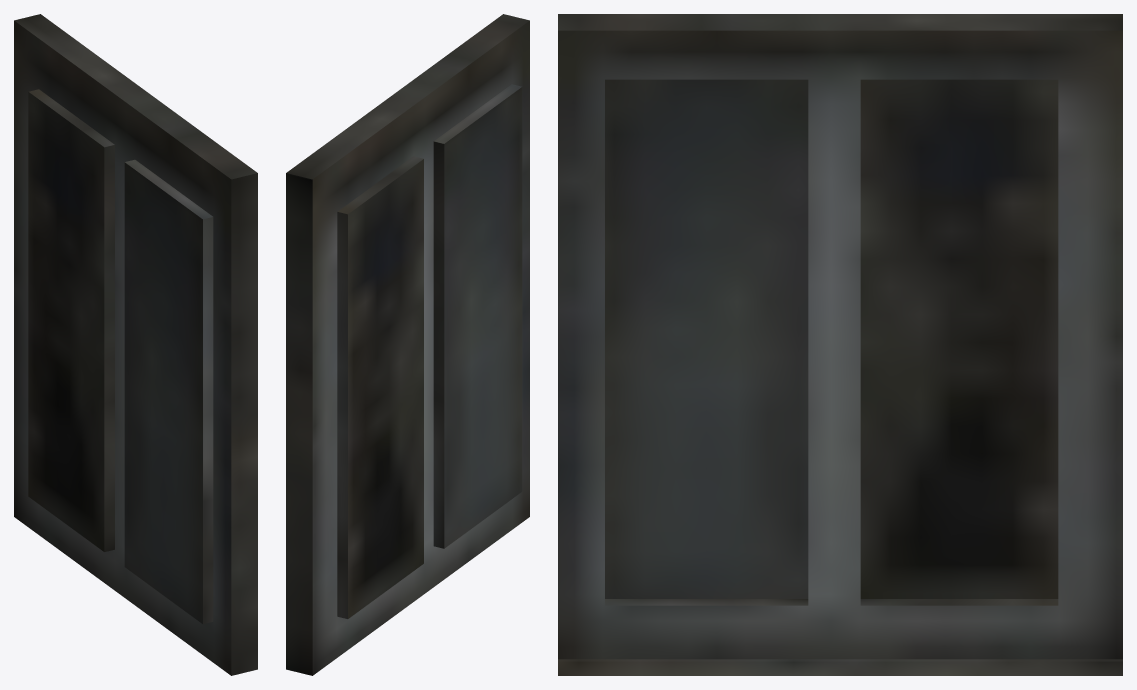
File: DoubleWindow_01.FBX
3 views of the same model, side by side, from view 1: azimuth 30°, elevation 25°; view 2: azimuth 150°, elevation 25°; view 3: azimuth 270°, elevation 25° (orthographic). The views are drawn at different scales.
Visible parts, largest first — view 1: DoubleWindow_01; view 2: DoubleWindow_01; view 3: DoubleWindow_01.
Part boxes in pixels (<box>): DoubleWindow_01: <box>14,14,257,675</box>; DoubleWindow_01: <box>286,14,529,675</box>; DoubleWindow_01: <box>558,14,1122,675</box>.
Size of the model in its own units: 12.86 by 165 by 131.
